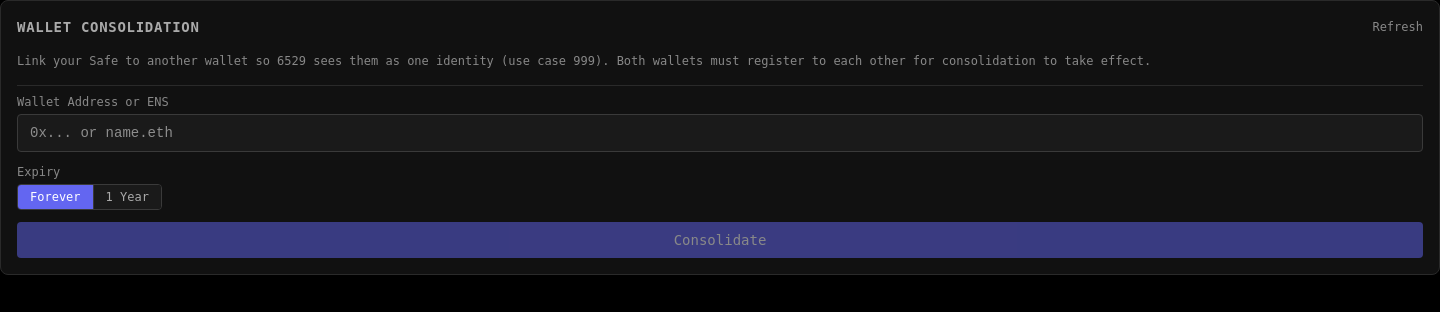
Test: ConsolidationCard chain ID guard › blocks consolidate form submission on wrong chain
The width and height of the screenshot is (1440, 312).
Type "0xabcdefabcdefabcdefabcdefabcdefabcdefabcd" into the field with placeholder "0x... or name.eth" at (720, 133), box [17,114,1423,152]
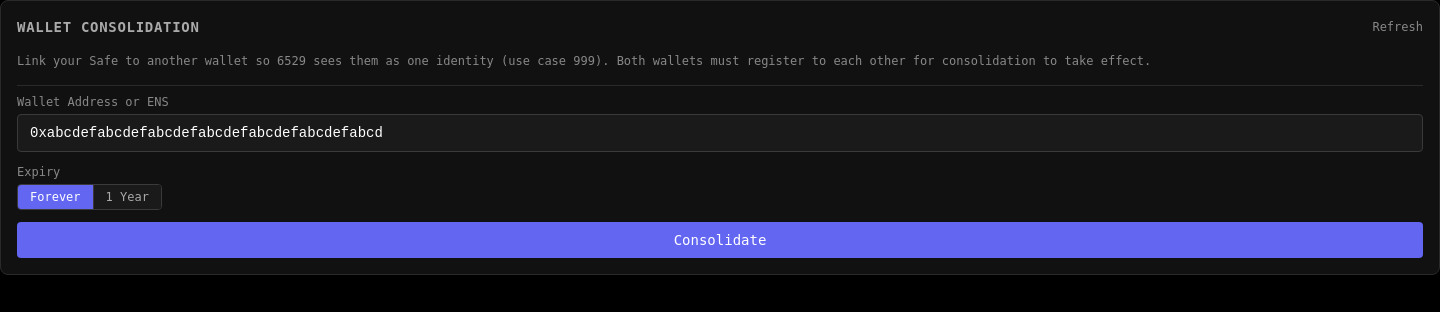
Click the button "Consolidate" at (720, 240), box [17,222,1423,258]
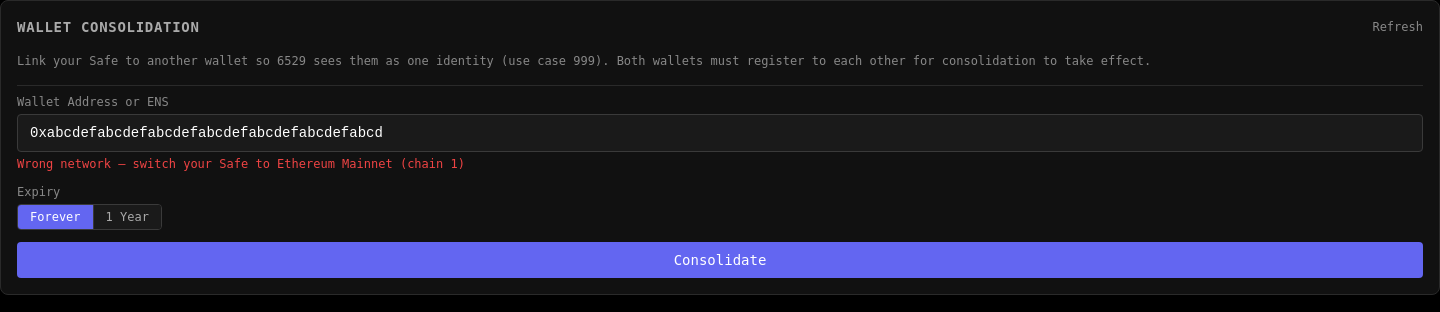
expect the text "Wrong network — switch your Safe to Ethereum Mainnet (chain 1)" is shown: met, box [17,157,465,171]
